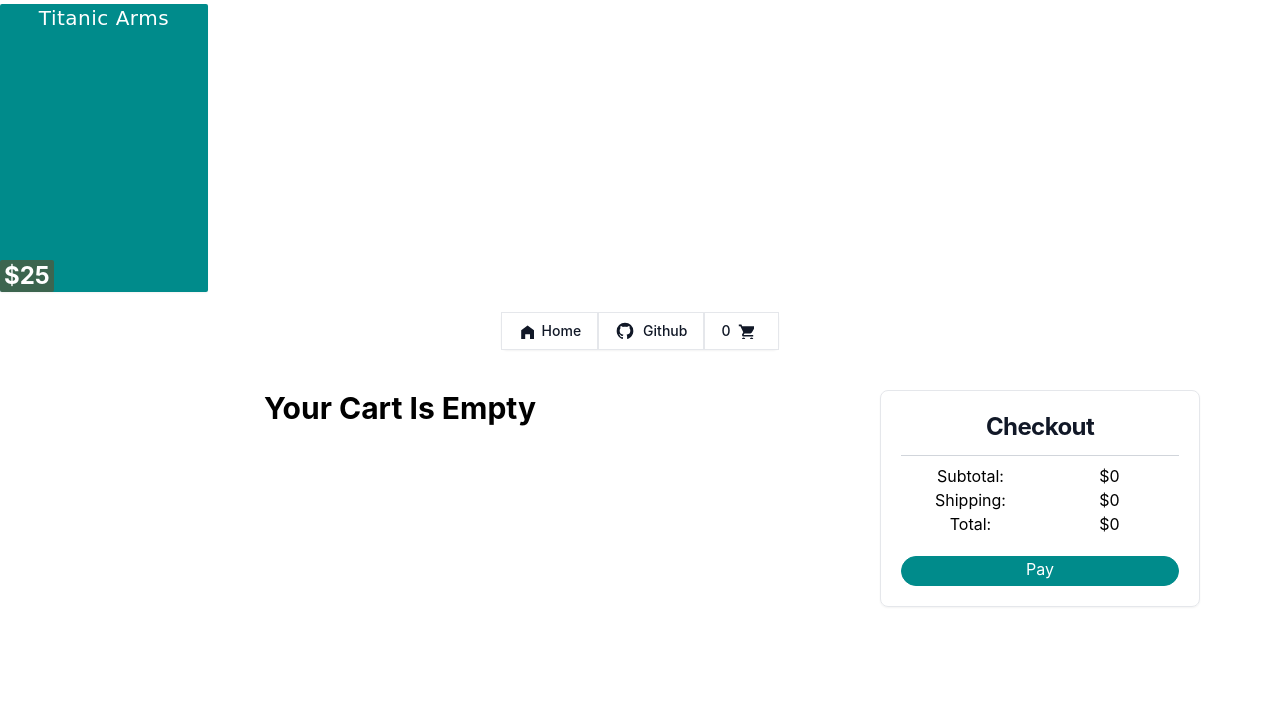
Test case: the cart › insert monster 1 in cart
The image size is (1280, 720).
Click the heading "Titanic Arms" at (104, 18), box [39,6,169,30]
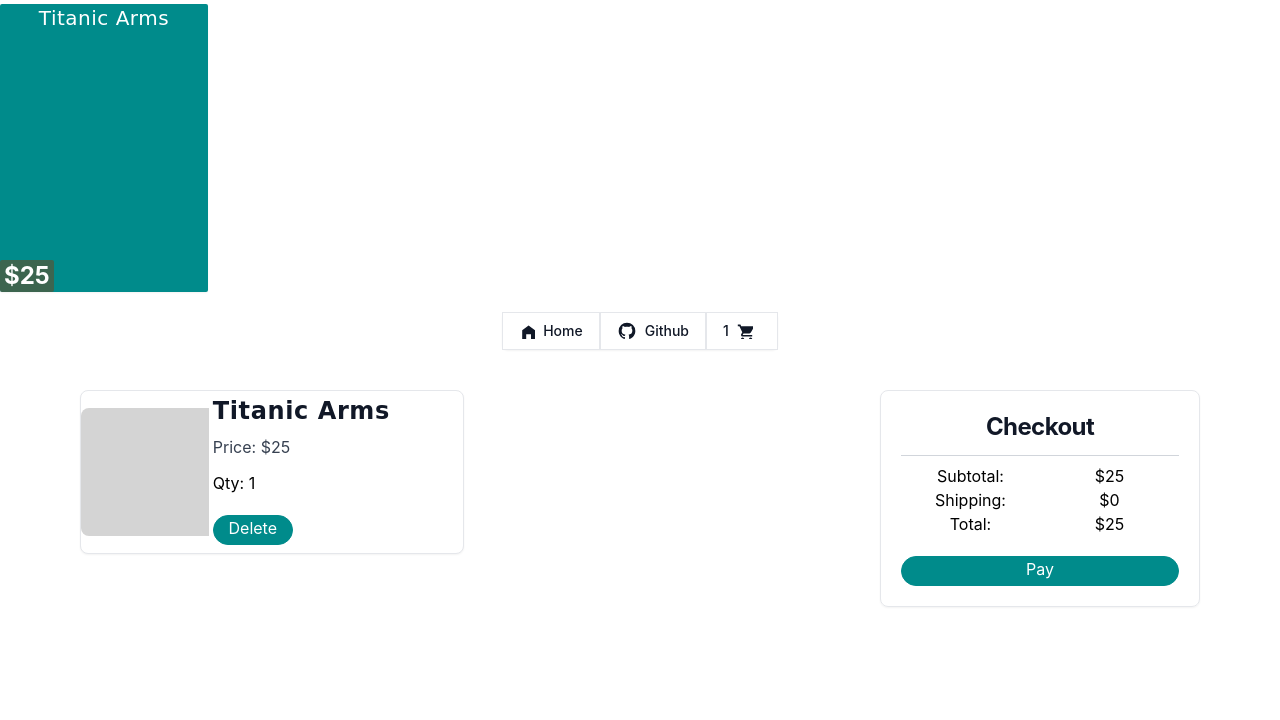
Expected: the text with test id "test-total" reads "$25", [1095,514,1124,534]
Expected: the text with test id "test-cart-count" reads "1", [723,322,729,339]
Expected: the element with test id "test-checkout-route" shows "Titanic Arms", [213,397,390,425]
